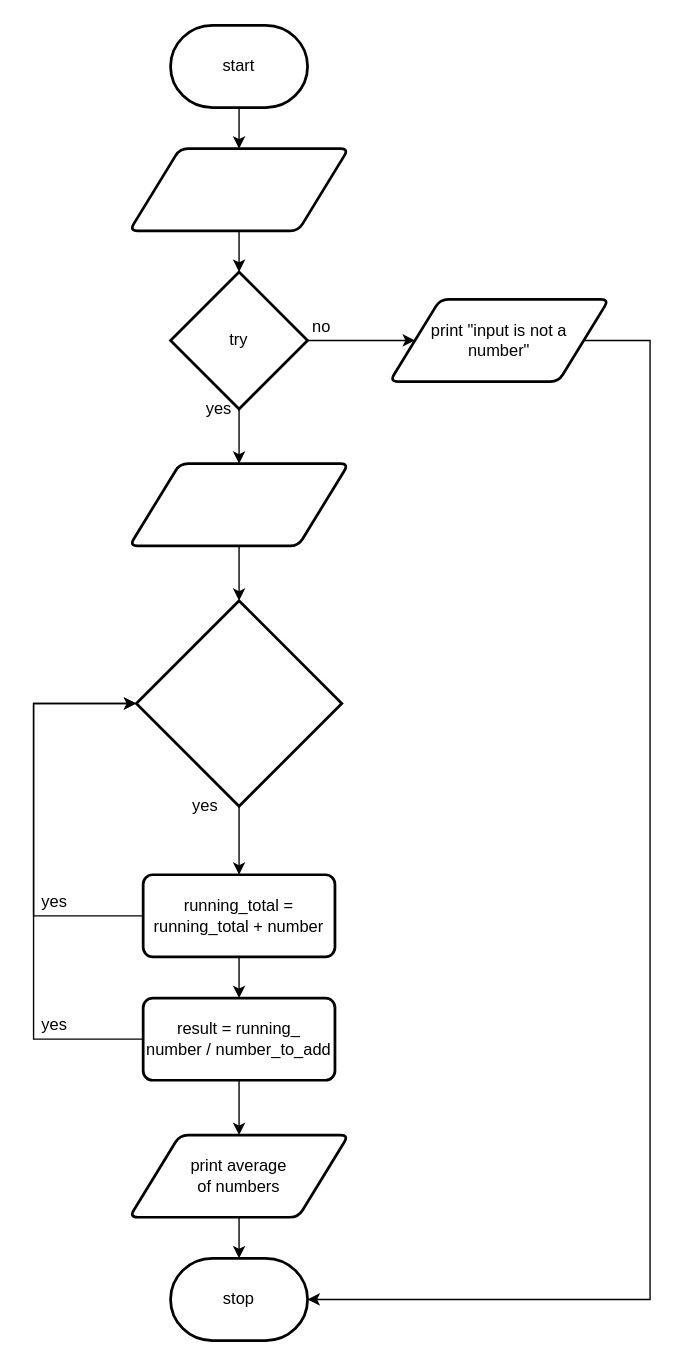
Some shapes in this 685 by 1365 pixel diagram are drawn without their labels. Here are the shapes that lost their labels. From the top down, the box of each, then its label:
(127, 147, 349, 232): get how many numbers to find average of
(127, 462, 349, 547): get numbers to find average
(134, 599, 342, 807): for loop_counter in range(0, number_to_add)
